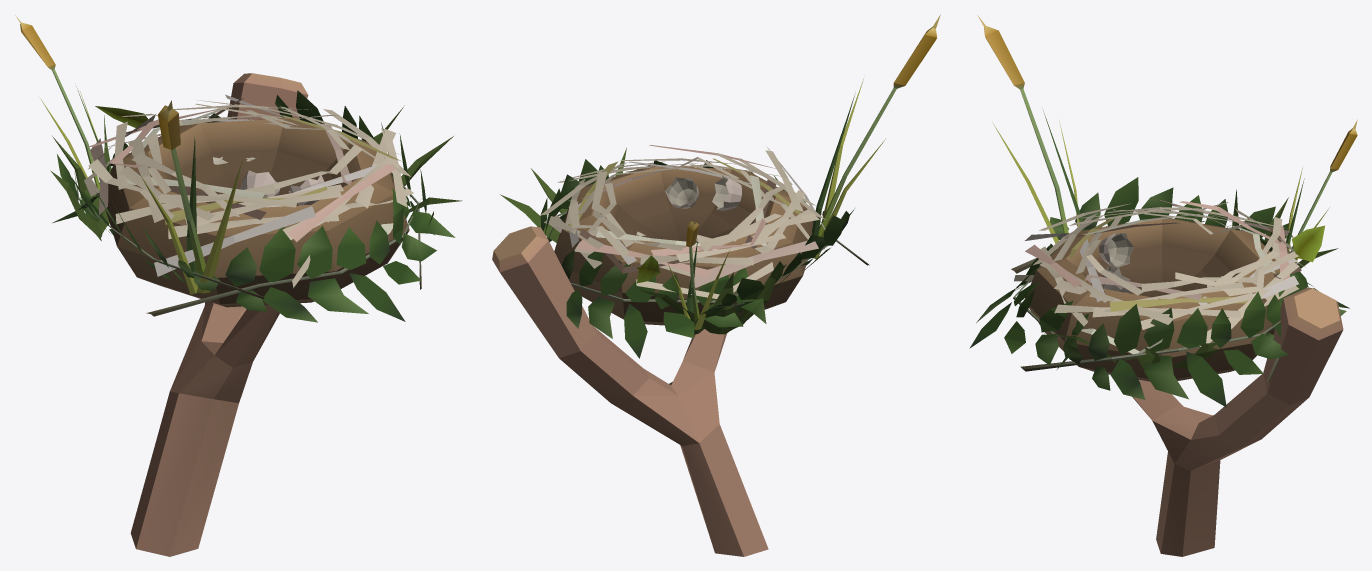
The picture shows the model from 3 angles, left to right: view 1: azimuth 30°, elevation 25°; view 2: azimuth 150°, elevation 25°; view 3: azimuth 270°, elevation 25°; orthographic projection. The views are drawn at different scales.
Visible parts, largest first — view 1: nestStage_5; view 2: nestStage_5; view 3: nestStage_5.
Part boxes in pixels (left/top/right/bottom): nestStage_5: left=15, top=15, right=462, bottom=556; nestStage_5: left=492, top=14, right=940, bottom=556; nestStage_5: left=969, top=15, right=1357, bottom=556.
Size of the model in its own units: 2.03 by 2.82 by 2.06.
